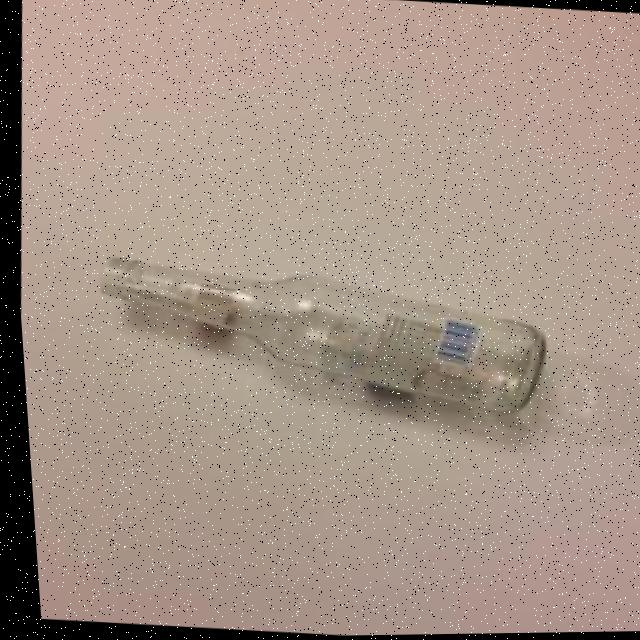glass: (78, 237, 558, 444)
